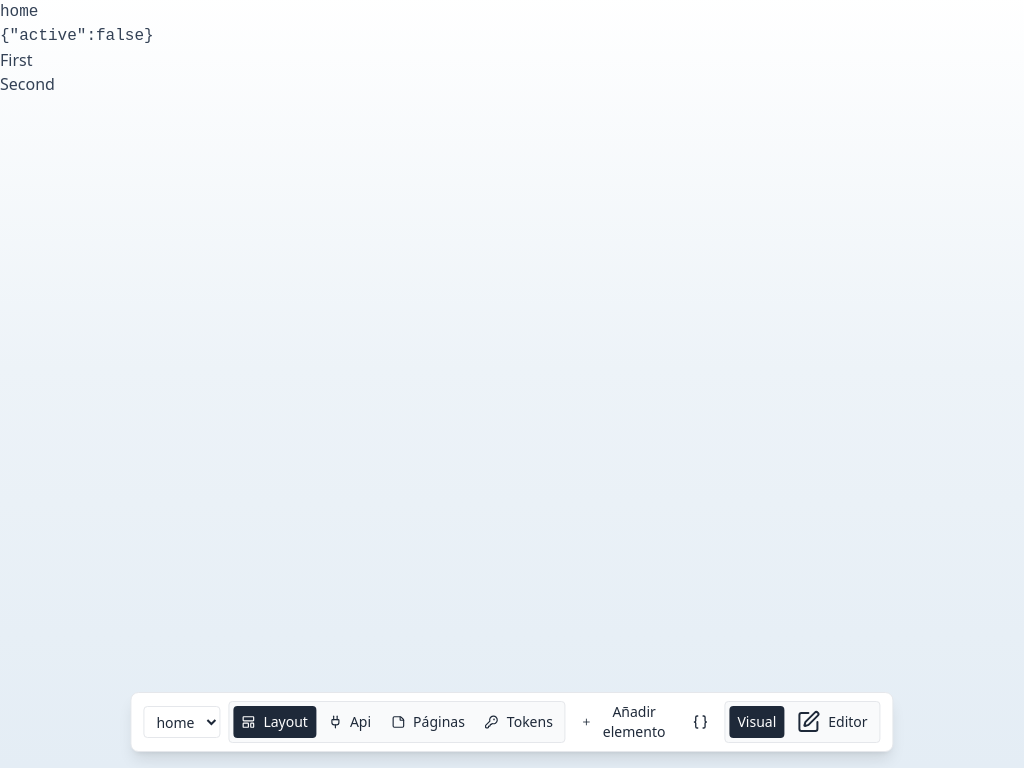
Test: DevEditorLayer / page navigation clears selection (FR15) › navigates for real via the toolbar page selector and clears selectedPath
Click the button with test id "dev-editor-toolbar-mode-editor": (832, 722) x1=788 y1=706 x2=876 y2=738
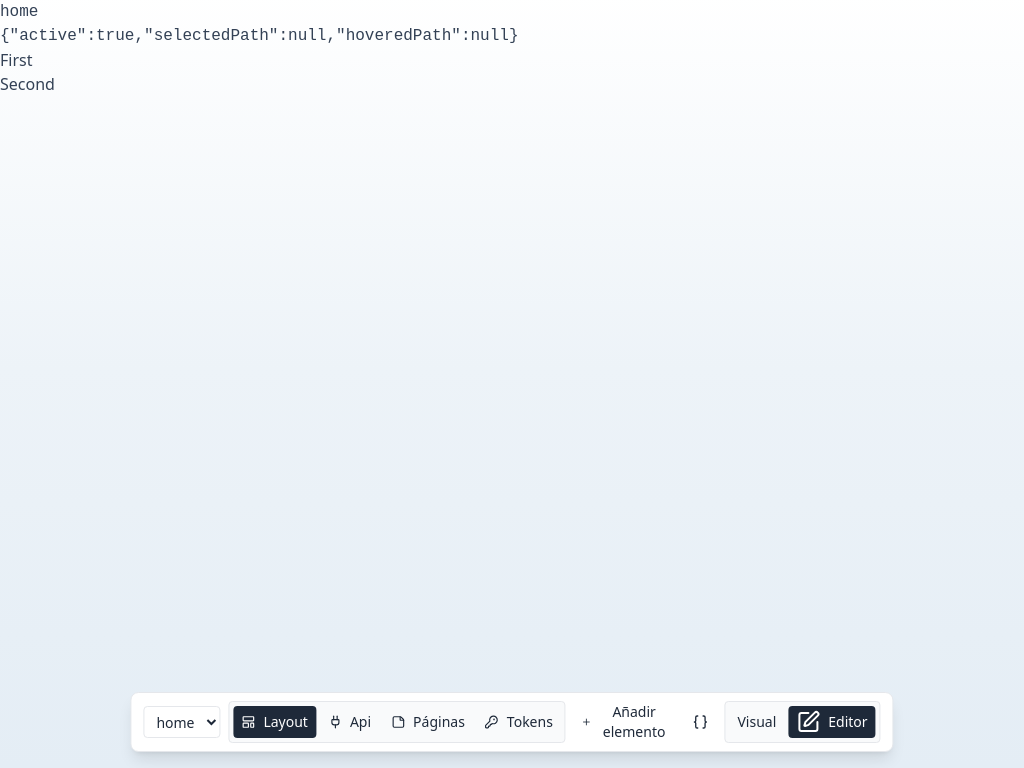
Click the text with test id "probe-node-a": (16, 60) x1=0 y1=49 x2=32 y2=71
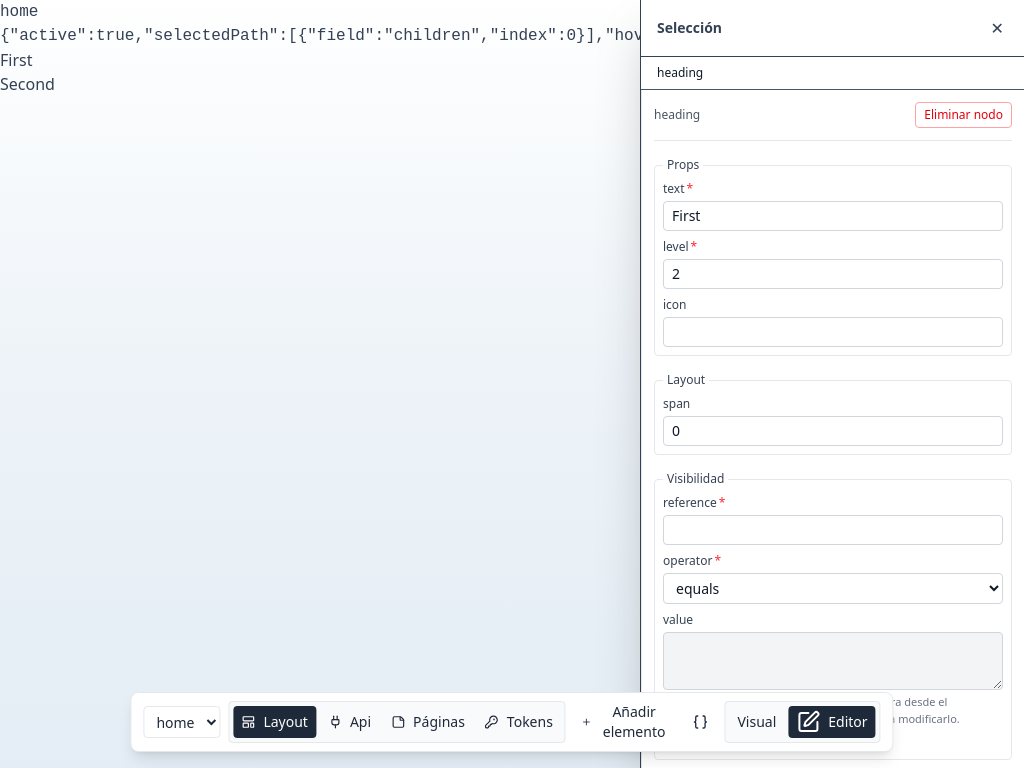
expect the text with test id "current-page-id" reads "home": met, box x1=0 y1=3 x2=38 y2=21
Select "about" in the dropdown with test id "dev-editor-toolbar-page-select": (182, 722) x1=143 y1=706 x2=220 y2=738
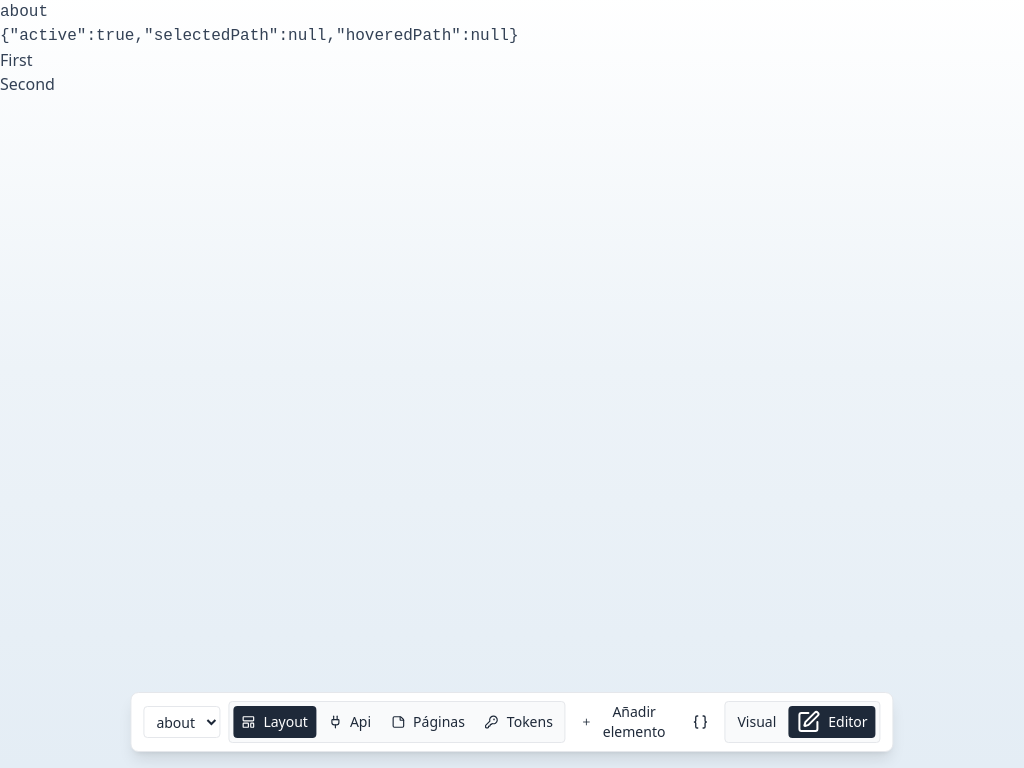
expect the text with test id "current-page-id" reads "about": met, box x1=0 y1=3 x2=48 y2=21
